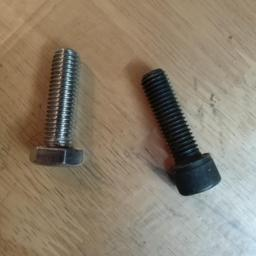screwtype1black: (137, 67, 223, 199)
screwtype2silver: (27, 46, 86, 172)
